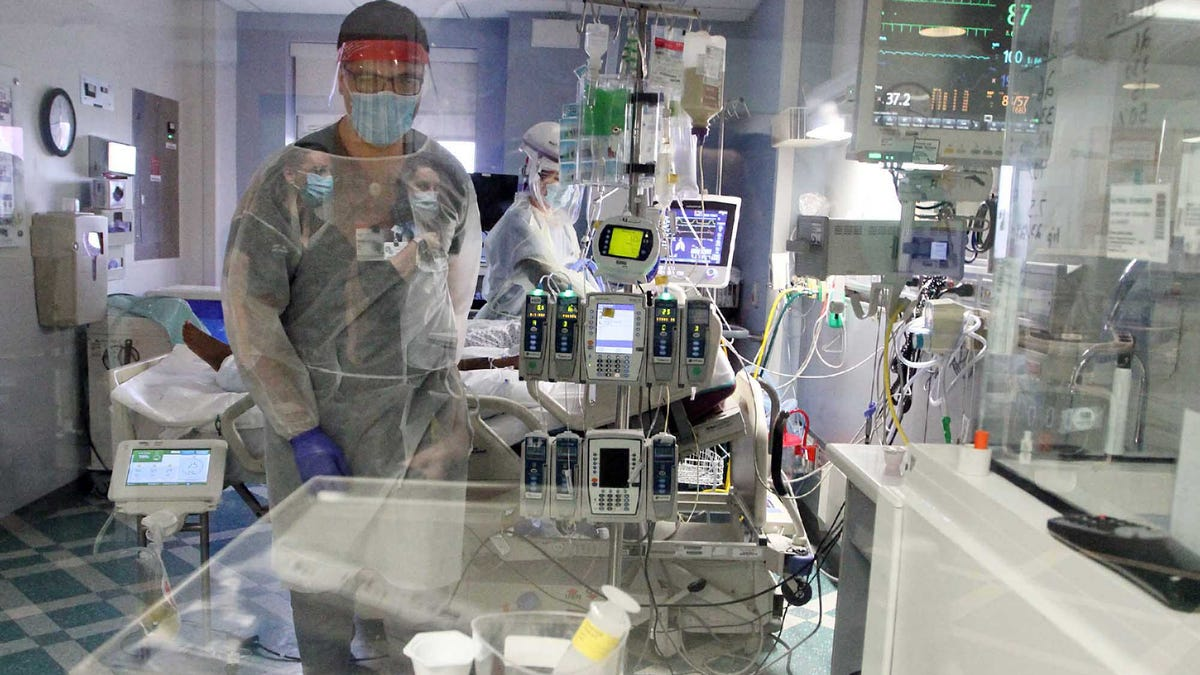bedrail: (215, 388, 549, 481)
bedside_monitor: (842, 1, 1054, 280), (654, 191, 742, 286)
bedside_table: (822, 437, 1200, 675)
foot_board: (107, 341, 186, 469)
hospital_bed: (100, 355, 777, 535)
infusion_pump: (517, 291, 722, 388), (516, 429, 680, 525)
iv_pole: (590, 1, 684, 602)
medical_waste_container: (28, 204, 107, 324)
patient: (119, 294, 558, 394)
staff: (220, 1, 484, 674), (471, 119, 603, 349)
